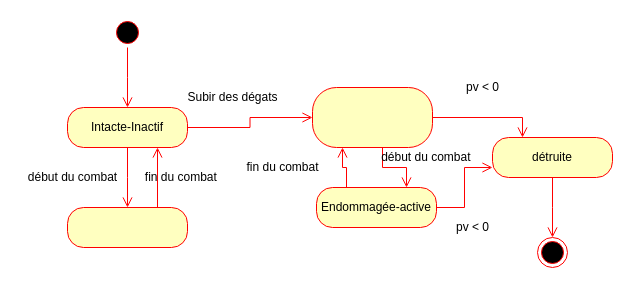
Some shapes in this 630 by 285 pixel diagram are drawn without their labels. The box of each missing label's shape, as (x1, y1, x2, y2) in pixels:
Endommagée-Inactive: (312, 86, 432, 148)
intacte-Active: (66, 206, 188, 248)
